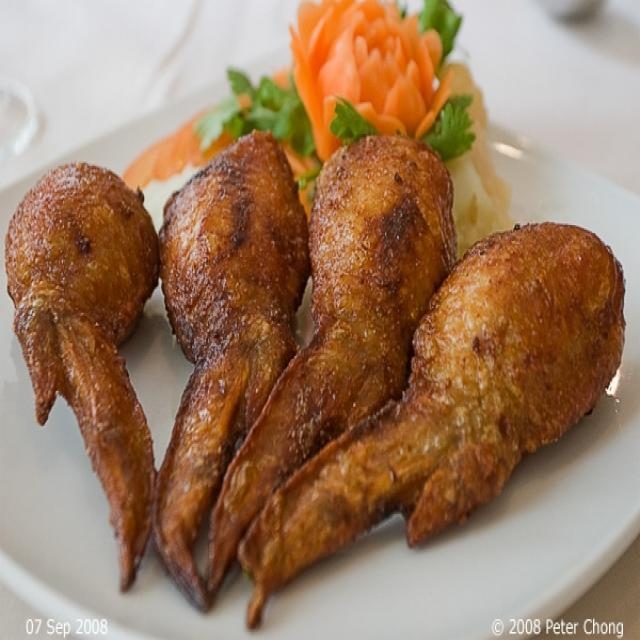Deep fried chicken wing: (15, 129, 631, 584)
